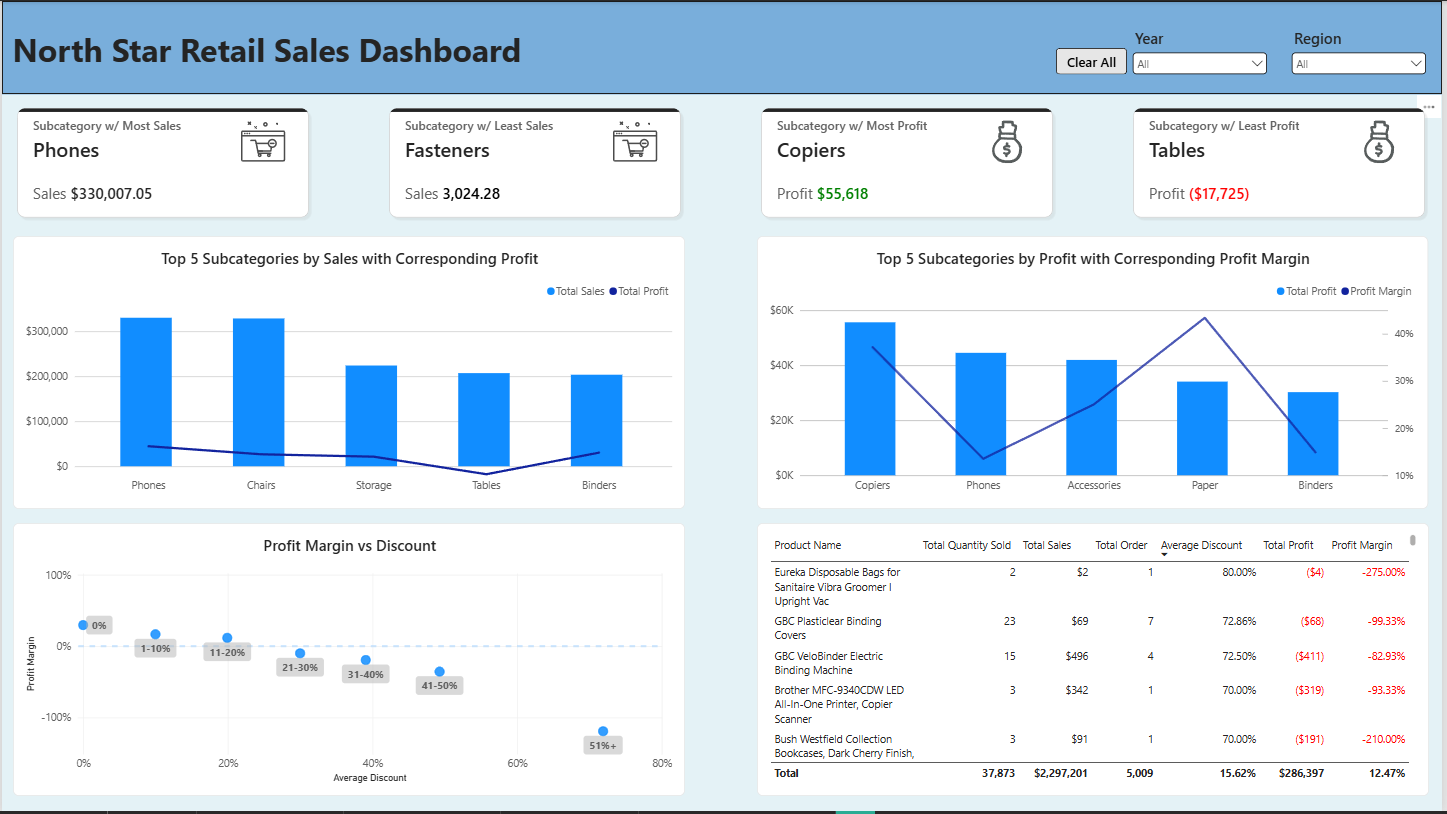

This screenshot's page, from the dashboard's own definition file:
{"tool":"powerbi","page":{"name":"Sales & Profitability","canvas":[1920,1080],"ordinal":1},"visuals":[{"type":"shape","box":[0,0,1919.7,124.6],"z":0},{"type":"textbox","box":[0,35,706.7,75],"z":1000},{"type":"cardVisual","fields":{"Data":["_measuers.top_sales_category_name"]},"box":[14.7,137.3,400,157.3],"z":2000},{"type":"cardVisual","fields":{"Data":["_measuers.bottom_sales_category_name"]},"box":[510.7,137.3,400,157.3],"z":3000},{"type":"cardVisual","fields":{"Data":["_measuers.top_profit_subcategory_name"]},"box":[1006.7,137.3,400,157.3],"z":4000},{"type":"cardVisual","fields":{"Data":["_measuers.bottom_profit_subcategory_name"]},"box":[1502.7,137.3,400,157.3],"z":5000},{"type":"lineClusteredColumnComboChart","title":"Top 5 Subcategories by Sales with Corresponding Profit","fields":{"Category":["dim_product.subcategory"],"Y":["_measuers.total_sales"],"Y2":["_measuers.total_profit"]},"box":[14.7,313.3,896,364],"z":6000},{"type":"lineClusteredColumnComboChart","title":"Top 5 Subcategories by Profit with Corresponding Profit Margin","fields":{"Category":["dim_product.subcategory"],"Y":["_measuers.total_profit"],"Y2":["_measuers.profit_margin"]},"box":[1006.7,313.3,894.7,364],"z":7000},{"type":"scatterChart","title":"Profit Margin vs Discount","fields":{"X":["Avg(fact_sales.discount)"],"Y":["_measuers.profit_margin"],"Category":["fact_sales.discount_group"]},"box":[14.7,696,896,364],"z":8000},{"type":"tableEx","fields":{"Values":["dim_product.product_name","_measuers.total_quantity_sold","_measuers.total_sales","_measuers.total_order","_measuers.average_discount","_measuers.total_profit","_measuers.profit_margin"]},"box":[1006.7,696,896,364],"z":9000},{"type":"slicer","fields":{"Values":["dim_date.date.Variation.Date Hierarchy.Year"]},"box":[1502.2,35.3,188.5,88.5],"z":10000},{"type":"slicer","fields":{"Values":["dim_customer.region"]},"box":[1714.1,35.3,188.5,88.5],"z":11000},{"type":"actionButton","box":[1405.7,62.9,94.7,35.3],"z":12000}]}

Visuals, with their boxes in screenshot pixels (x1, y1, x2, y2), scaled from the page's 1920x1080 canvas onto the 1447x814 screenshot:
shape: 0, 0, 1446, 94
textbox: 0, 26, 533, 83
cardVisual - _measuers.top_sales_category_name: 11, 103, 313, 222
cardVisual - _measuers.bottom_sales_category_name: 385, 103, 686, 222
cardVisual - _measuers.top_profit_subcategory_name: 759, 103, 1060, 222
cardVisual - _measuers.bottom_profit_subcategory_name: 1133, 103, 1434, 222
"Top 5 Subcategories by Sales with Corresponding Profit" lineClusteredColumnComboChart: 11, 236, 686, 510
"Top 5 Subcategories by Profit with Corresponding Profit Margin" lineClusteredColumnComboChart: 759, 236, 1433, 510
"Profit Margin vs Discount" scatterChart: 11, 525, 686, 799
tableEx - dim_product.product_name x _measuers.total_quantity_sold: 759, 525, 1434, 799
slicer - dim_date.date.Variation.Date Hierarchy.Year: 1132, 27, 1274, 93
slicer - dim_customer.region: 1292, 27, 1434, 93
actionButton: 1059, 47, 1131, 74
